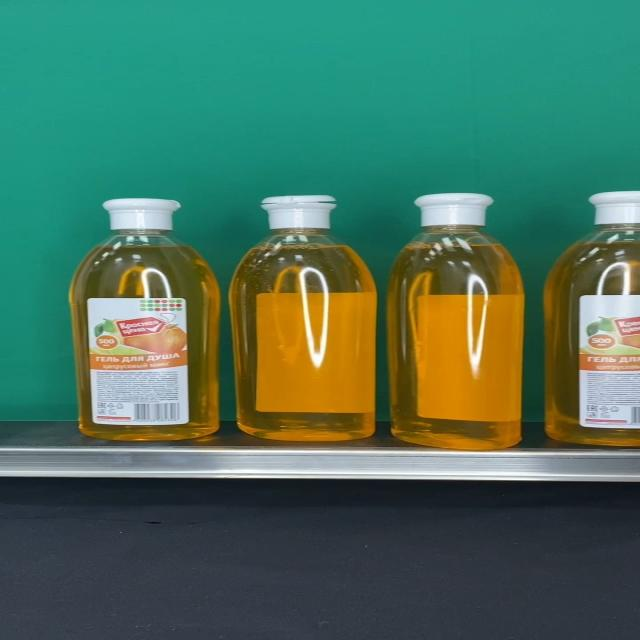Bottle: (69, 198, 221, 441), (229, 194, 377, 441), (386, 194, 524, 451)
Cap: (412, 194, 494, 227), (261, 195, 338, 229), (103, 198, 181, 231)
